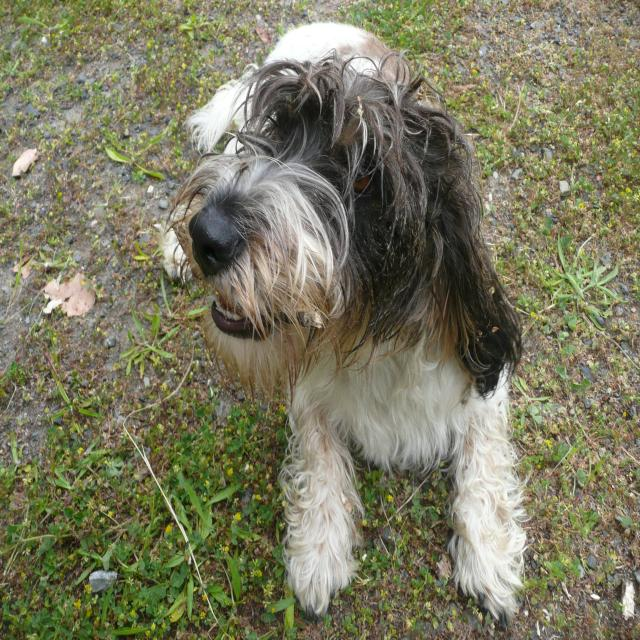dog: (168, 11, 459, 386)
